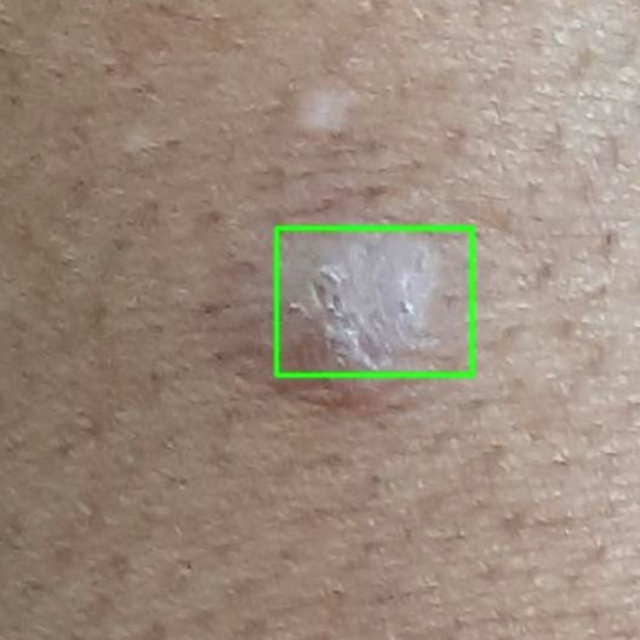Contact Dermatitis: (276, 227, 472, 375)
